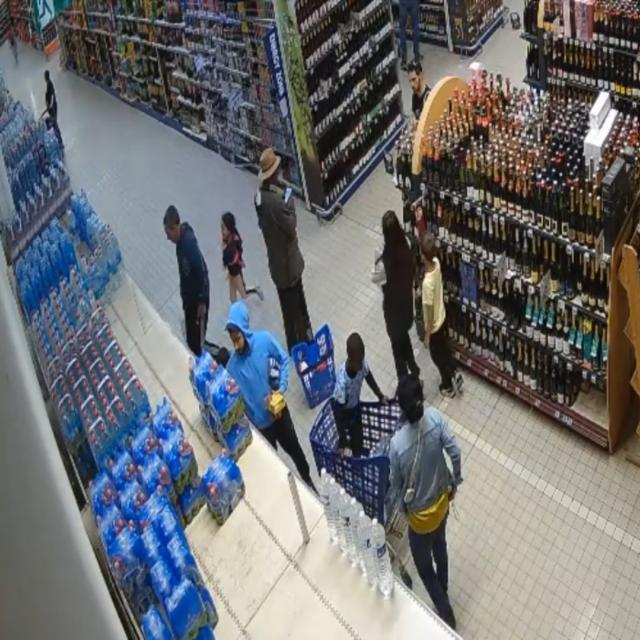article: (263, 392, 286, 415), (268, 356, 280, 389)
hands: (197, 303, 206, 320), (449, 484, 457, 501), (379, 396, 390, 405), (424, 336, 429, 349), (338, 448, 345, 456)
person: (390, 376, 462, 629), (227, 302, 315, 490), (255, 148, 313, 352), (421, 233, 463, 397), (164, 206, 209, 356), (381, 211, 420, 380), (333, 334, 387, 456), (221, 212, 263, 302), (408, 59, 430, 119)
